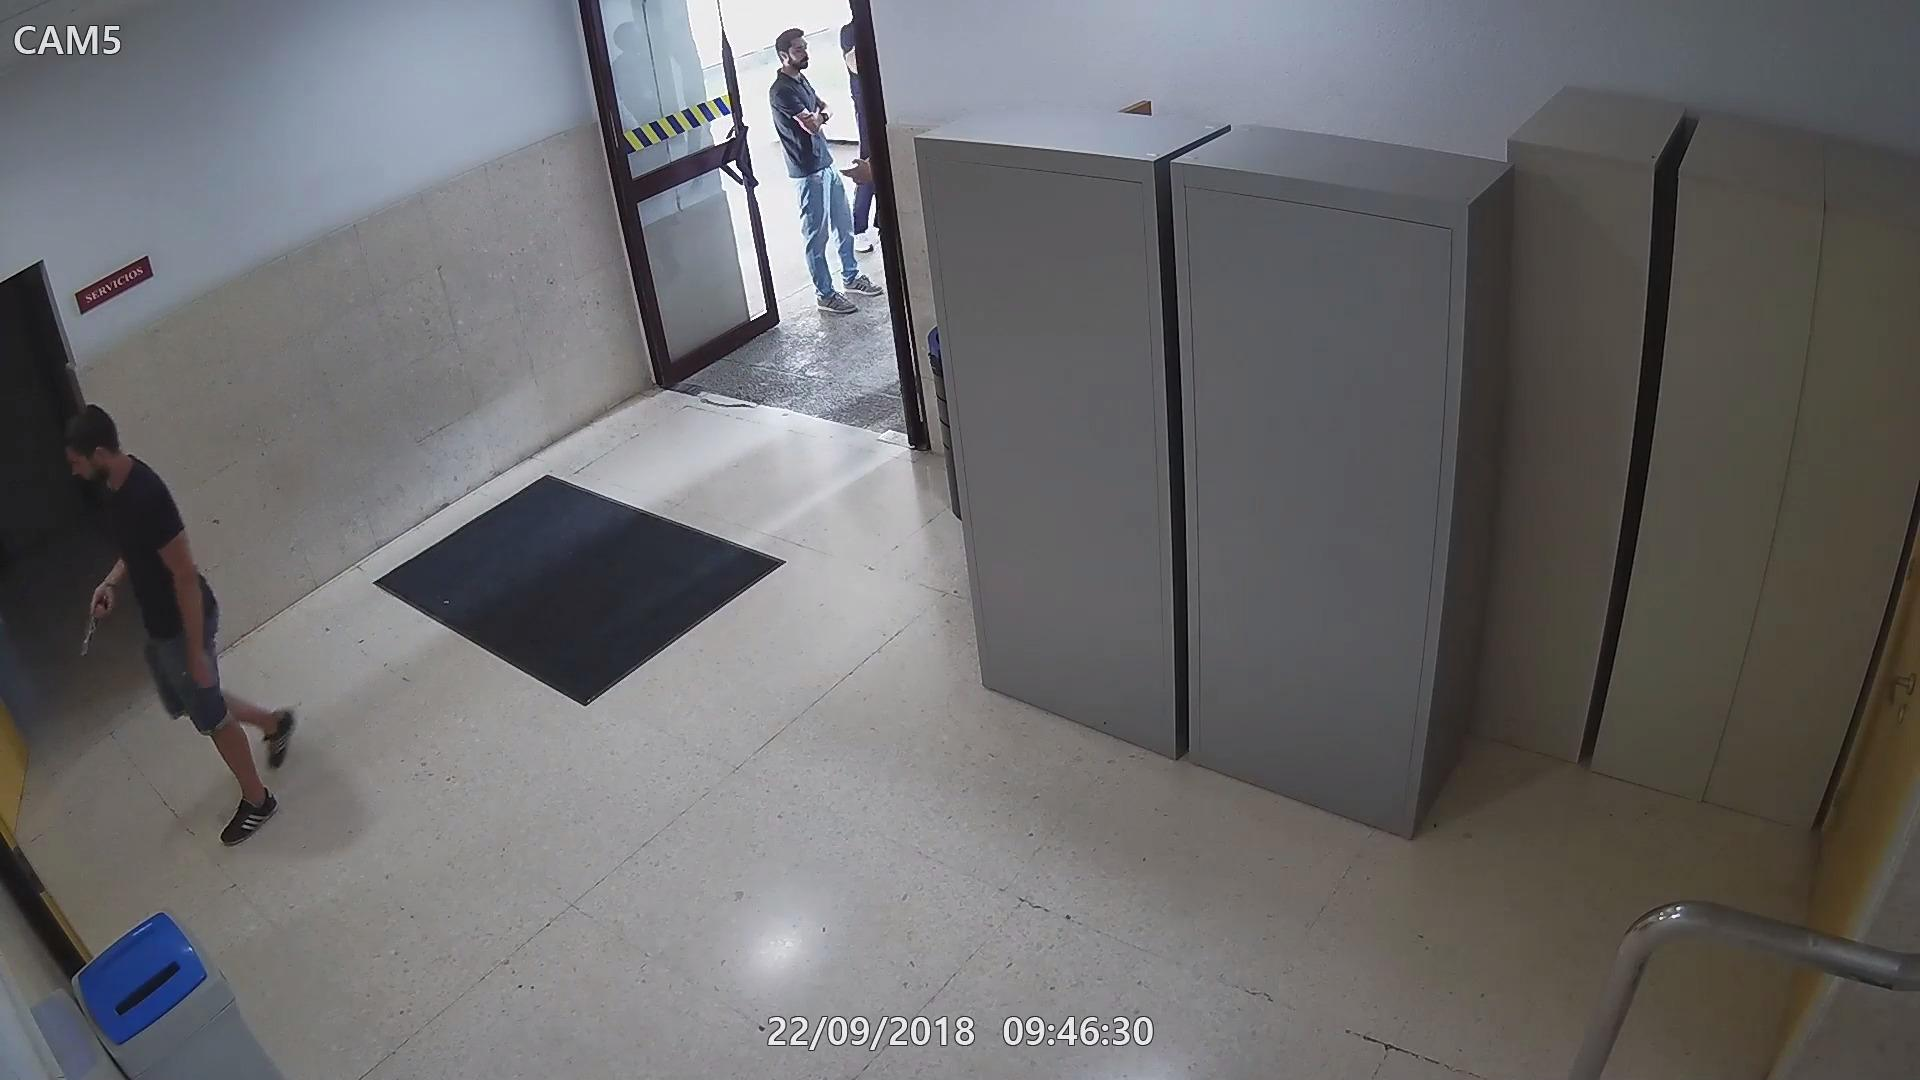Handgun: (78, 588, 117, 657)
